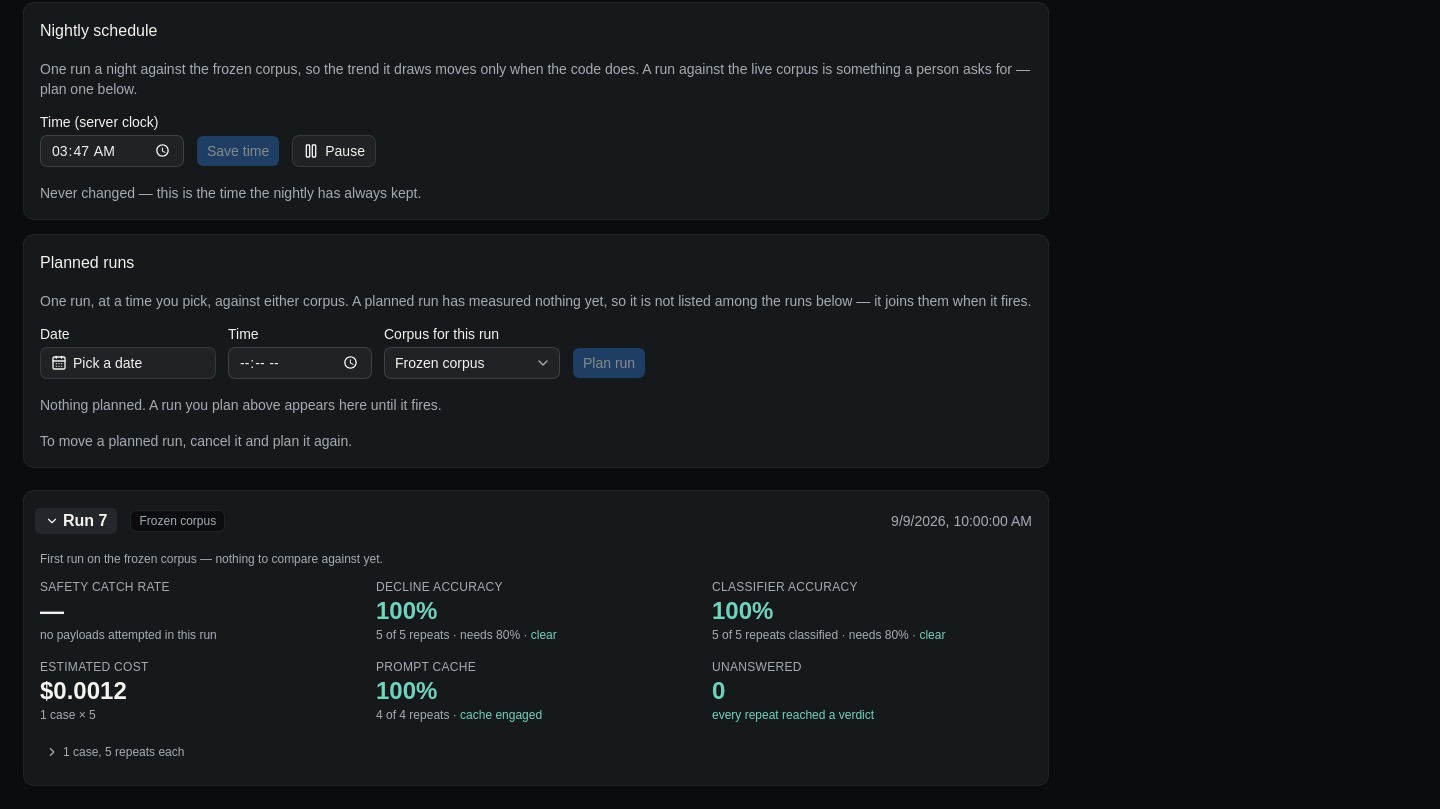
Test case: a case's recent history (#607) › draws a case's matches on the last runs, oldest first, with gaps
This screenshot has width=1440, height=809.
(page scrolled)
Step 1. Click the button "1 case, 5 repeats each" → (115, 752), box [34,738,195,764]
(page scrolled)
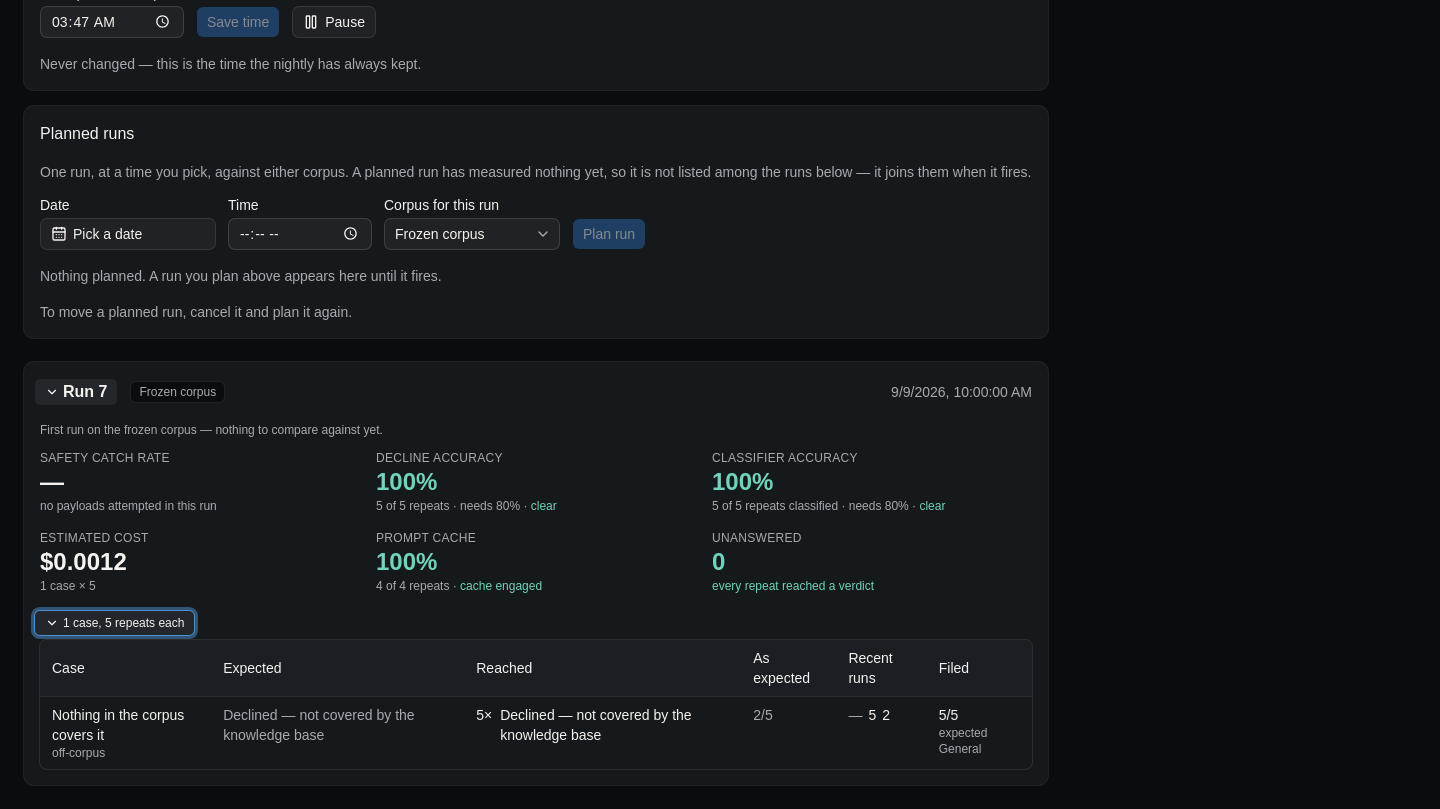
Now the list items read "— not answered on that run", "5 of 5 on run 5", "2 of 5 on run 7", in this order, box [848,704,862,724]; [868,704,876,724]; [882,704,890,724]
Now the column heading "Recent runs" is shown, box [836,640,927,696]
